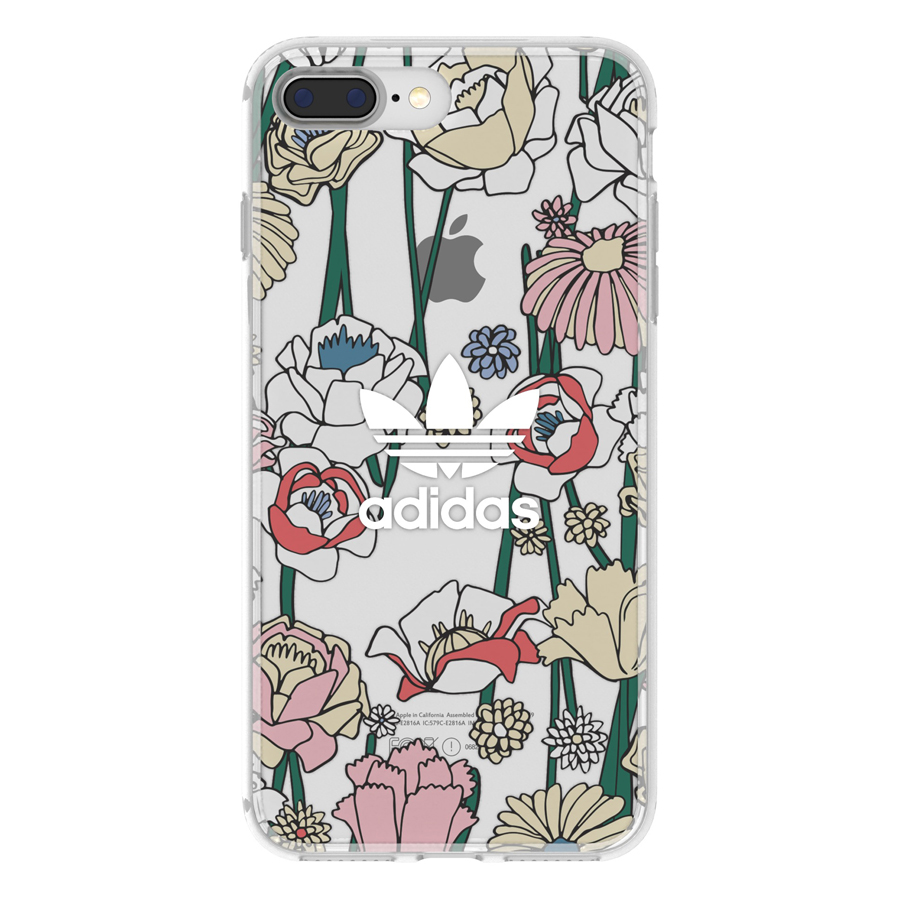Adidas: (351, 349, 547, 536)
